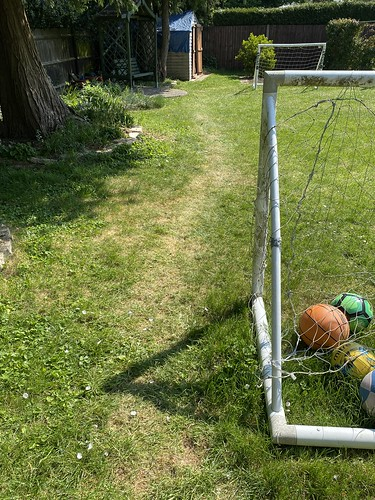ball: (295, 296, 350, 354), (331, 341, 375, 387), (340, 289, 375, 335)
grass: (1, 81, 375, 500)
tree: (1, 1, 111, 157)
